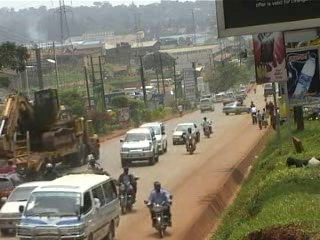Car: (0, 176, 57, 233), (117, 124, 160, 168), (0, 163, 27, 213), (140, 120, 169, 155), (172, 118, 204, 144), (221, 100, 251, 116)
Motorcycle: (142, 177, 175, 235), (113, 165, 139, 216), (3, 158, 27, 182), (180, 126, 198, 157), (39, 158, 63, 180), (82, 156, 105, 175), (198, 113, 214, 138)
